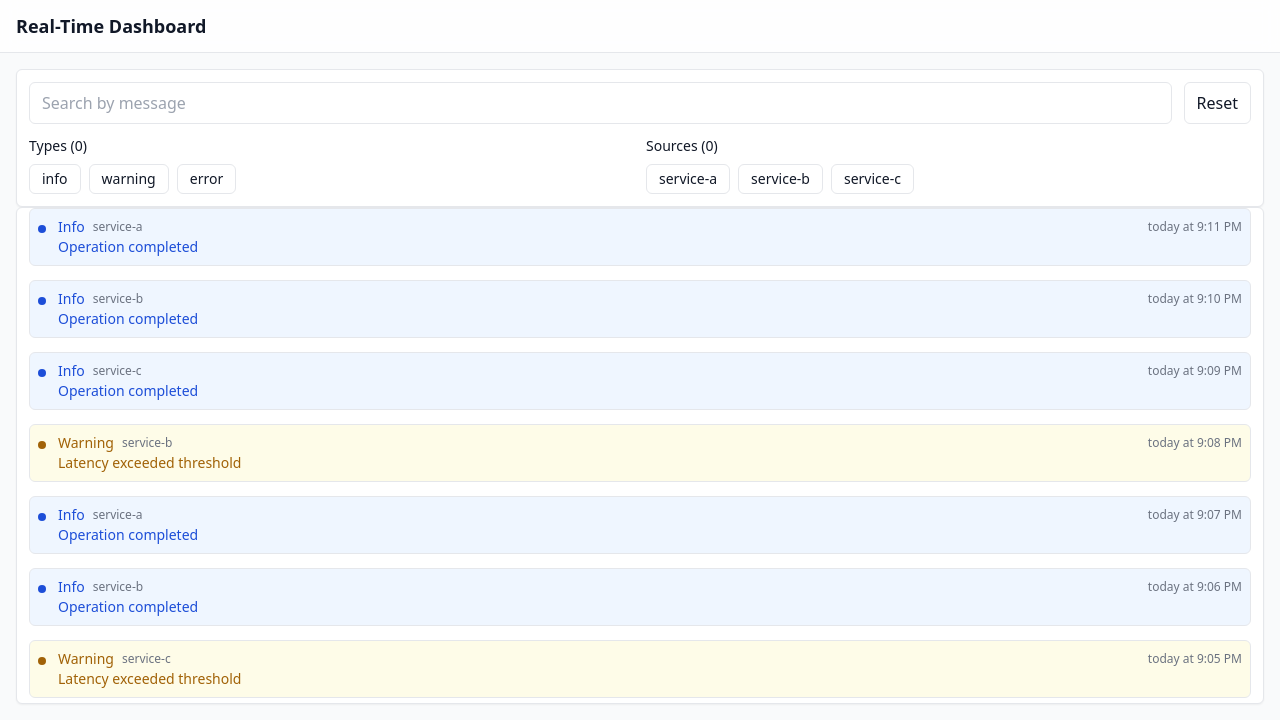
Test: Event Details Panel › should display formatted timestamp
Click the 1st button with test id "event-row": (118,227) [29,208,1251,266]
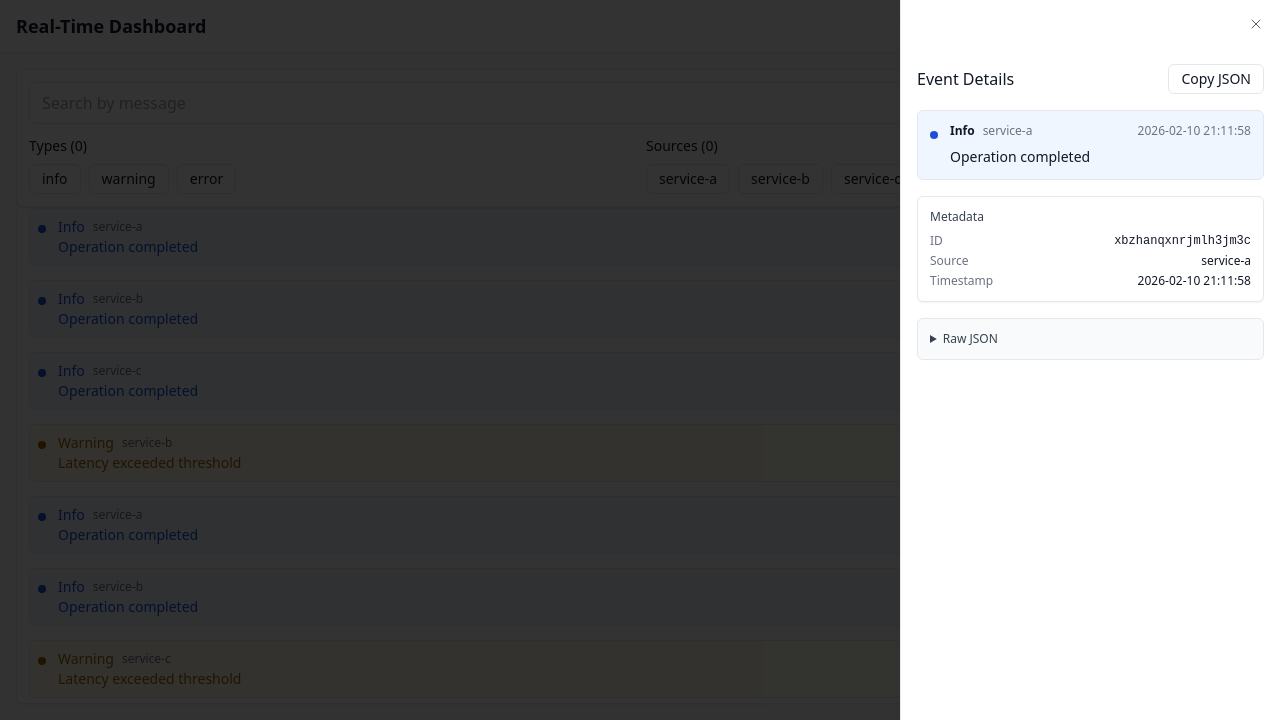
Expected: the dialog with test id "event-details-panel" is shown, [900,0,1279,719]
Expected: the element with test id "event-details" is shown, [917,64,1264,360]
Expected: the 1st text "2026-02-10 21:11:58" is shown, [1138,123,1251,139]
